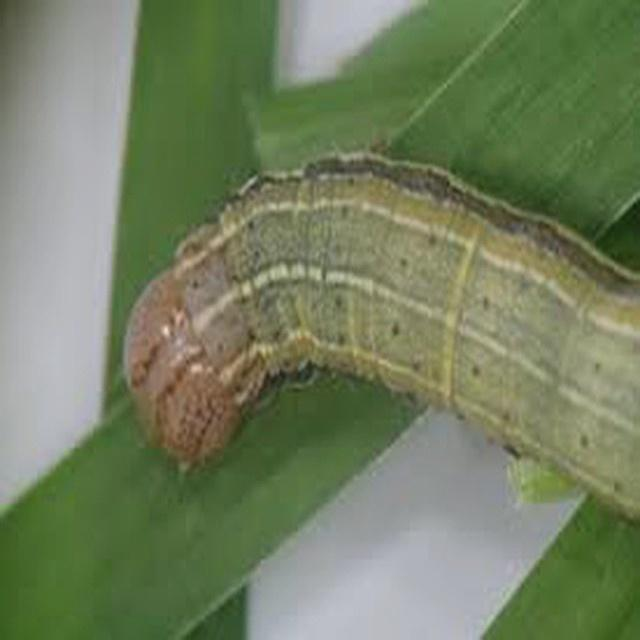gusano_cogollero: (118, 138, 640, 522)
